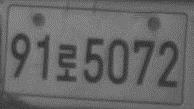0: (107, 37, 129, 85)
1: (34, 33, 52, 80)
2: (156, 38, 179, 90)
5: (82, 36, 105, 83)
7: (131, 38, 156, 86)
9: (9, 32, 32, 79)
로: (55, 42, 78, 82)
